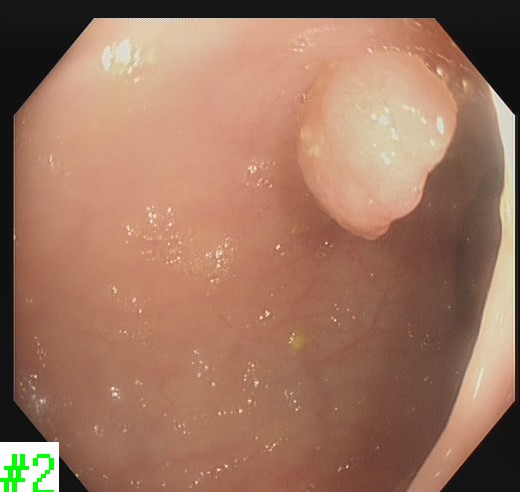adenoma: (292, 45, 461, 244)
